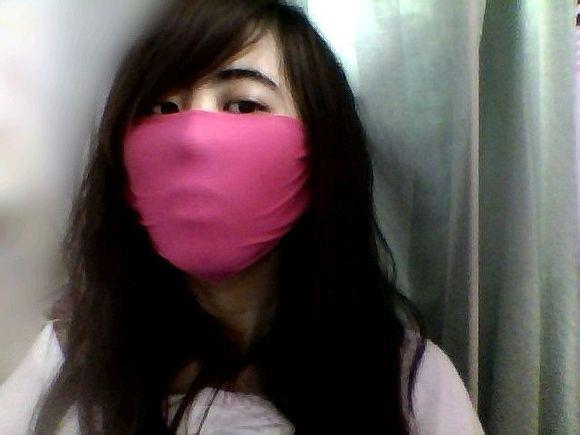OK: (119, 72, 298, 251)
